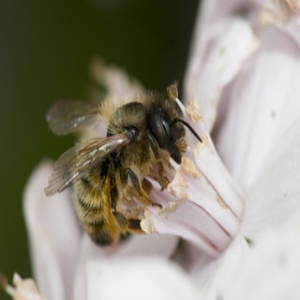bee: (43, 86, 203, 254)
